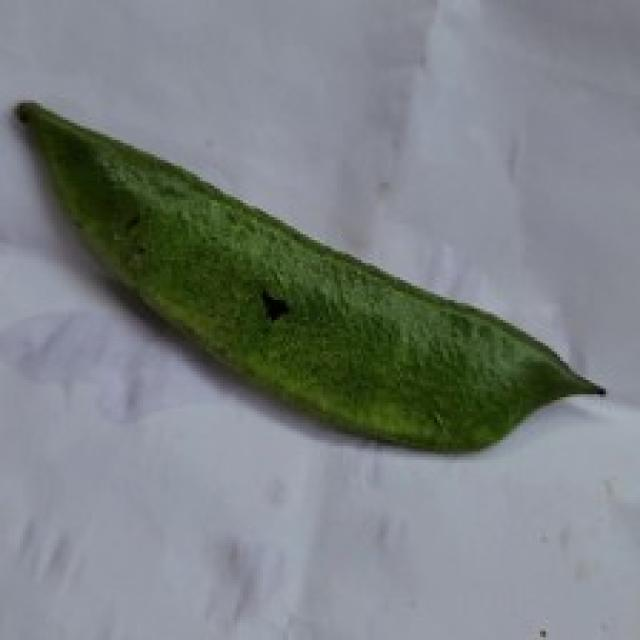Bean: (11, 97, 606, 454)
